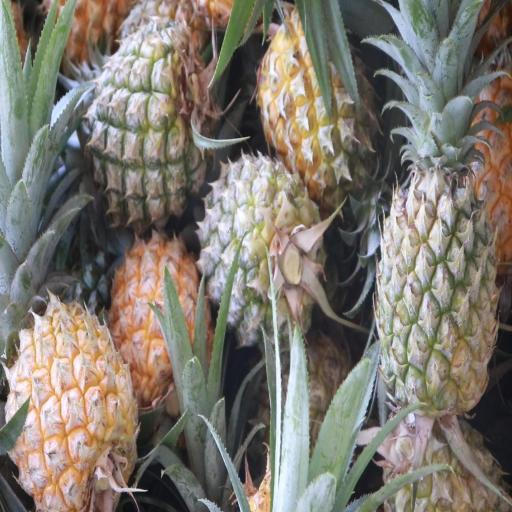------------------------------: (89, 29, 214, 220), (259, 8, 381, 196), (206, 154, 324, 338)
Pineapple - v8 v1: (18, 303, 149, 505), (110, 231, 216, 413)
